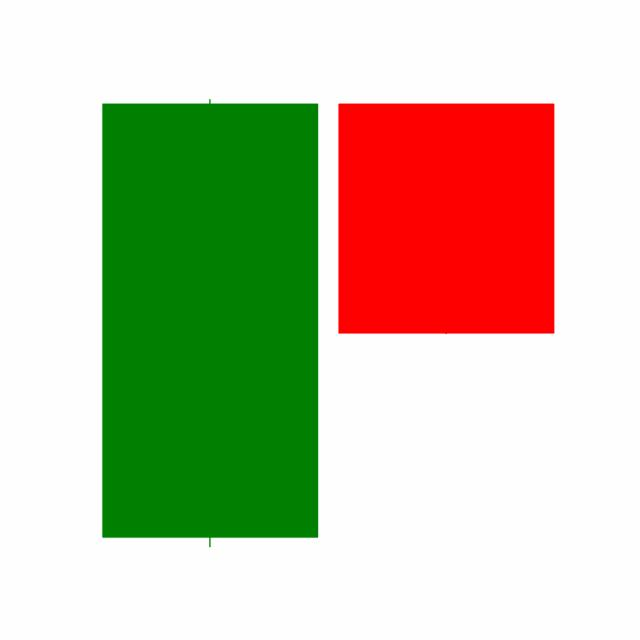Marubozu: (327, 100, 565, 336)
